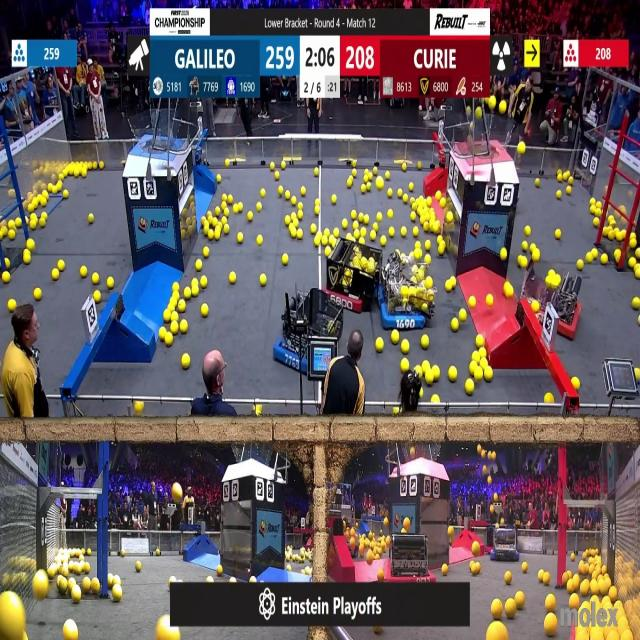ball_airborne: (173, 484, 182, 500), (489, 97, 496, 111), (518, 142, 526, 154), (499, 102, 506, 115), (475, 107, 481, 118), (411, 448, 417, 458), (480, 448, 486, 458), (492, 494, 499, 502), (488, 452, 495, 460), (465, 106, 471, 115), (490, 504, 495, 512), (484, 465, 488, 474), (488, 477, 492, 485), (184, 496, 188, 504)
ball_ground: (544, 616, 556, 637), (65, 622, 78, 640), (488, 624, 502, 640), (491, 601, 502, 620), (505, 600, 515, 618), (578, 580, 589, 596), (72, 588, 82, 604), (544, 595, 554, 611), (112, 587, 122, 602), (465, 380, 474, 395), (134, 400, 144, 413), (517, 593, 525, 609), (449, 366, 458, 380), (92, 580, 101, 594), (472, 367, 482, 379), (81, 577, 90, 590), (182, 354, 190, 368), (570, 595, 578, 609), (432, 365, 440, 379), (608, 588, 616, 602), (590, 582, 598, 596), (470, 562, 479, 574), (504, 284, 512, 297), (400, 358, 408, 371), (421, 337, 429, 350), (520, 255, 528, 268), (567, 582, 575, 595), (24, 251, 32, 263), (485, 368, 493, 380), (629, 237, 637, 249), (402, 518, 410, 530), (202, 305, 209, 318), (377, 339, 384, 352), (401, 341, 408, 354), (452, 318, 459, 331), (180, 320, 187, 333), (499, 248, 506, 261), (2, 273, 10, 284), (486, 294, 494, 305), (178, 301, 186, 312), (544, 392, 552, 403), (314, 237, 322, 248), (171, 322, 179, 333), (586, 252, 594, 263), (425, 278, 433, 289), (34, 288, 41, 300), (8, 300, 15, 312), (504, 571, 511, 583), (391, 332, 398, 344), (633, 296, 640, 308), (259, 274, 266, 286), (166, 335, 173, 347), (95, 290, 102, 302), (532, 302, 539, 314), (475, 337, 482, 349), (471, 542, 478, 554), (426, 373, 433, 385), (532, 250, 539, 262), (82, 562, 89, 574), (27, 240, 35, 250), (171, 312, 179, 322), (480, 358, 488, 368), (616, 231, 624, 241), (290, 213, 298, 223), (572, 378, 578, 391), (282, 253, 289, 264), (107, 278, 114, 289), (201, 277, 208, 288), (459, 310, 466, 321), (51, 270, 58, 281), (165, 311, 172, 322), (93, 274, 100, 285), (160, 326, 167, 337), (231, 273, 237, 285), (184, 287, 190, 299), (431, 394, 439, 403), (108, 574, 114, 586), (4, 257, 10, 269), (542, 572, 548, 584), (378, 178, 384, 190), (415, 363, 423, 372), (601, 254, 608, 264), (576, 262, 583, 272), (59, 262, 66, 272), (480, 348, 487, 358), (439, 246, 446, 256), (284, 215, 291, 225), (8, 231, 15, 241), (254, 407, 261, 417), (468, 296, 475, 306), (290, 230, 297, 240), (524, 225, 531, 235), (432, 222, 439, 232), (215, 207, 222, 217), (629, 257, 636, 267), (30, 219, 37, 229), (113, 574, 120, 584), (204, 247, 210, 258), (195, 261, 201, 272), (136, 561, 142, 572), (522, 562, 528, 573), (379, 568, 385, 579), (470, 352, 477, 361), (213, 232, 220, 241), (423, 360, 430, 369), (589, 206, 596, 215), (556, 230, 562, 240), (80, 268, 86, 278), (191, 286, 197, 296), (522, 242, 528, 252), (256, 236, 262, 246), (425, 254, 431, 264), (425, 241, 431, 251), (369, 232, 375, 242), (594, 217, 600, 227), (381, 236, 387, 246), (377, 212, 383, 222), (386, 227, 392, 237), (400, 228, 406, 238), (238, 234, 244, 244), (324, 247, 330, 257), (14, 218, 20, 228), (226, 196, 232, 206), (451, 277, 456, 289), (447, 212, 453, 222), (40, 218, 46, 228), (416, 249, 422, 259), (321, 237, 327, 247), (616, 250, 622, 260), (470, 360, 476, 370), (602, 228, 608, 238), (607, 231, 613, 241), (190, 279, 197, 287), (364, 183, 371, 191), (420, 214, 427, 222), (348, 177, 353, 188), (205, 224, 210, 235), (222, 224, 228, 233), (412, 212, 418, 221), (363, 214, 369, 223), (402, 193, 408, 202), (296, 211, 302, 220), (284, 189, 290, 198), (299, 186, 305, 195), (343, 219, 349, 228), (413, 229, 419, 238), (426, 198, 432, 207), (173, 282, 179, 291), (354, 232, 360, 241), (81, 169, 87, 178), (396, 188, 402, 197), (170, 303, 176, 312), (74, 169, 80, 178), (347, 233, 353, 242), (48, 183, 54, 192), (444, 564, 449, 574), (217, 565, 222, 575), (90, 213, 95, 223), (331, 193, 336, 203), (635, 269, 640, 279), (449, 526, 454, 536), (0, 230, 5, 240), (589, 200, 596, 207), (220, 192, 227, 199), (213, 217, 220, 224), (207, 575, 213, 583), (314, 169, 320, 177), (259, 188, 265, 196), (335, 230, 341, 238), (435, 190, 441, 198), (250, 575, 256, 583), (566, 186, 572, 194), (392, 410, 398, 418), (360, 184, 366, 192), (441, 200, 447, 208), (223, 208, 229, 216), (275, 172, 281, 180), (415, 242, 421, 250), (567, 176, 573, 184), (278, 186, 284, 194), (359, 230, 365, 238), (557, 174, 563, 182), (40, 199, 46, 207), (171, 294, 177, 302), (636, 366, 640, 378), (270, 164, 276, 172), (596, 202, 602, 210), (435, 236, 441, 244), (296, 231, 301, 240), (311, 224, 316, 233), (64, 189, 69, 198), (248, 212, 253, 221), (388, 188, 393, 197), (100, 162, 105, 171), (351, 211, 356, 220), (424, 222, 429, 231), (235, 205, 240, 214), (209, 231, 214, 240), (593, 249, 598, 258), (385, 172, 390, 181), (326, 227, 331, 236), (231, 576, 237, 583), (296, 203, 302, 210), (288, 224, 294, 231), (40, 212, 46, 219), (388, 210, 393, 218), (420, 388, 424, 398), (557, 190, 562, 198), (216, 175, 221, 183), (315, 207, 320, 215), (256, 204, 261, 212), (353, 220, 358, 228), (371, 222, 376, 230), (291, 198, 296, 206), (635, 249, 640, 257), (58, 182, 63, 190), (535, 178, 539, 187), (372, 166, 376, 175), (220, 204, 226, 210), (412, 204, 418, 210), (155, 550, 160, 557), (281, 163, 286, 170), (224, 161, 229, 168), (401, 165, 406, 172), (570, 554, 575, 561), (363, 175, 368, 182), (202, 216, 207, 223), (222, 216, 227, 223), (359, 238, 364, 245), (410, 182, 414, 190), (418, 163, 422, 171), (316, 200, 320, 207), (352, 170, 356, 177), (120, 551, 124, 558), (208, 211, 212, 217), (170, 576, 173, 583)
goal: (461, 118, 517, 159), (129, 116, 186, 151)
robot_blue: (272, 290, 342, 372), (380, 258, 436, 331), (490, 522, 520, 561)
robot_red: (324, 244, 381, 312), (548, 259, 584, 339), (390, 530, 437, 586)
